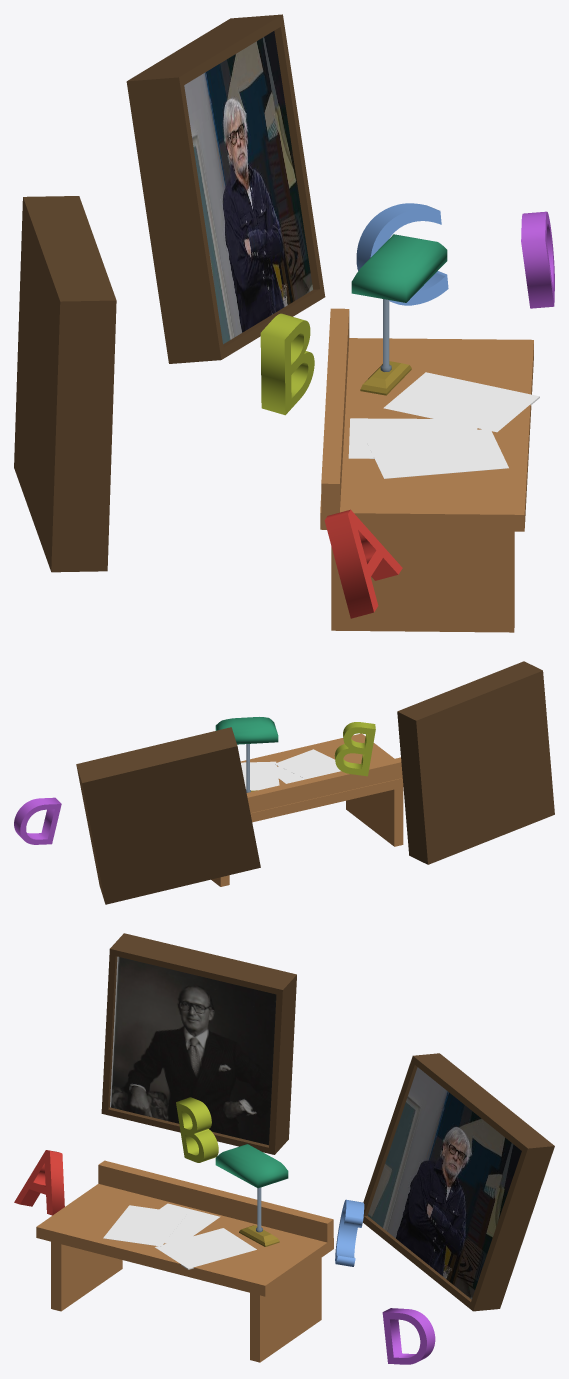
The model's file is Welsh.glb.
The picture shows the model from 3 angles, top to bottom: view 1: azimuth 30°, elevation 25°; view 2: azimuth 150°, elevation 25°; view 3: azimuth 270°, elevation 25°; orthographic projection. The views are drawn at different scales.
Visible parts, largest first — view 1: Cube.001, Cube.002, Cube, Cube.003, Plane.002, Plane, Text, Text.001, Text.002, Text.003, Plane.001; view 2: Cube, Cube.001, Cube.002, Cube.003, Text.001, Text.003, Plane.002, Plane; view 3: Cube, Cube.001, Cube.002, Cube.003, Plane, Plane.002, Text.001, Text.003, Text, Text.002, Plane.001.
Part boxes in pixels (x1,y1,x2,y2): Cube.001: (126, 14, 325, 363); Cube.002: (320, 308, 533, 632); Cube: (14, 196, 116, 572); Cube.003: (351, 234, 447, 395); Plane.002: (365, 428, 508, 478); Plane: (383, 372, 539, 432); Text: (324, 509, 402, 618); Text.001: (260, 313, 314, 415); Text.002: (356, 203, 448, 305); Text.003: (521, 211, 554, 308); Plane.001: (348, 418, 477, 458); Cube: (397, 661, 554, 864); Cube.001: (76, 727, 260, 904); Cube.002: (211, 733, 403, 886); Cube.003: (215, 717, 278, 792); Text.001: (334, 722, 375, 776); Text.003: (14, 797, 61, 844); Plane.002: (274, 749, 340, 779); Plane: (241, 761, 279, 790); Cube: (101, 933, 296, 1154); Cube.001: (363, 1053, 554, 1311); Cube.002: (36, 1160, 333, 1362); Cube.003: (215, 1144, 288, 1246); Plane: (155, 1228, 256, 1269); Plane.002: (103, 1205, 187, 1246); Text.001: (176, 1097, 218, 1162); Text.003: (382, 1308, 435, 1364); Text: (14, 1150, 64, 1215); Text.002: (335, 1199, 364, 1266); Plane.001: (159, 1203, 220, 1243).
Size of the model in its own units: 5.05 by 2.52 by 4.93.
Materials: 12 (2 with a texture image).
